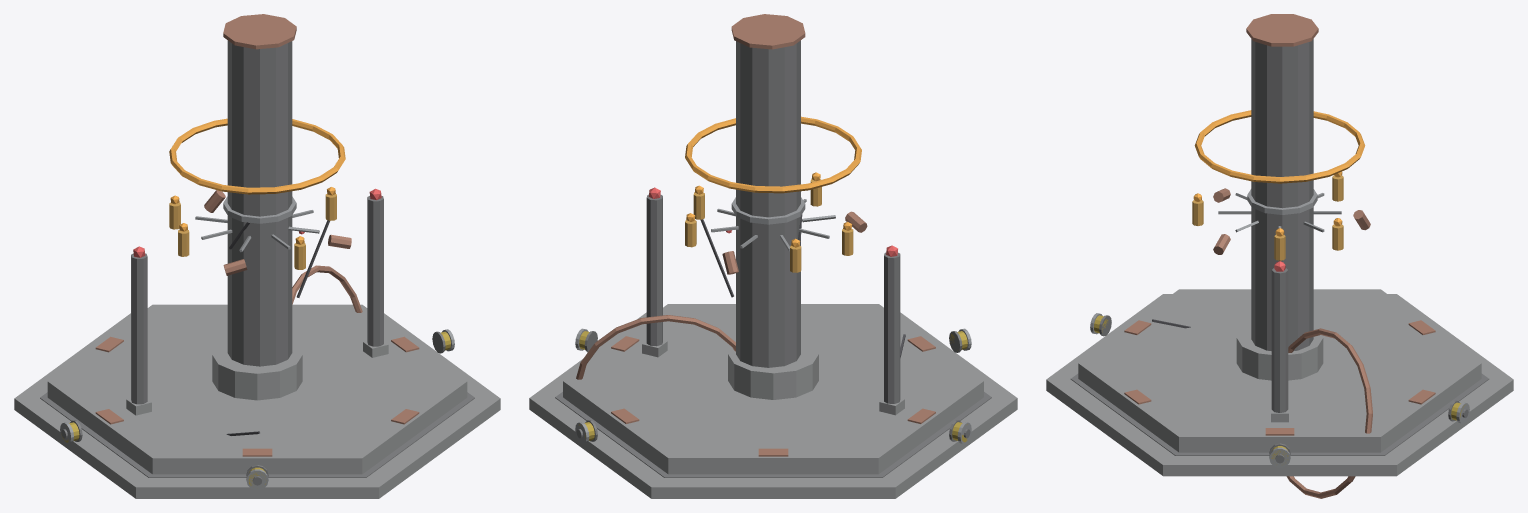
The model's file is overload_matrix_s2_50.glb.
3 renders of one model, left to right at view 1: azimuth 30°, elevation 25°; view 2: azimuth 150°, elevation 25°; view 3: azimuth 270°, elevation 25°, orthographic. The views are drawn at different scales.
Visible parts, largest first — view 1: OM_Ball; view 2: OM_Ball; view 3: OM_Ball.
Boxes of the visible parts, x1,y1,x2,y2 form: OM_Ball: (14, 14, 500, 498); OM_Ball: (529, 14, 1017, 498); OM_Ball: (1046, 14, 1513, 498).
Bounding box in the file's own units: 5.25 × 5.65 × 5.7.
